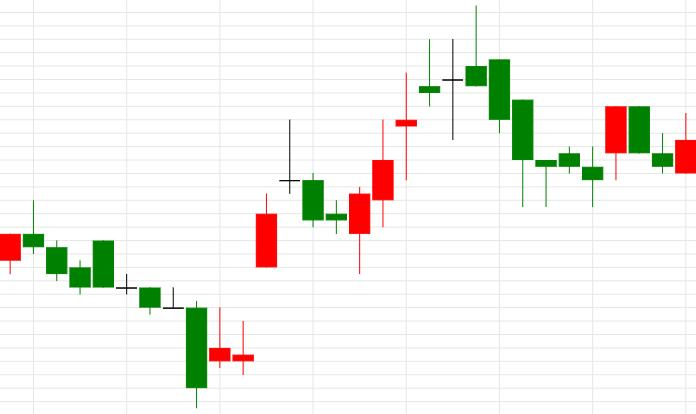shooting_star_fall: (348, 6, 487, 274)
